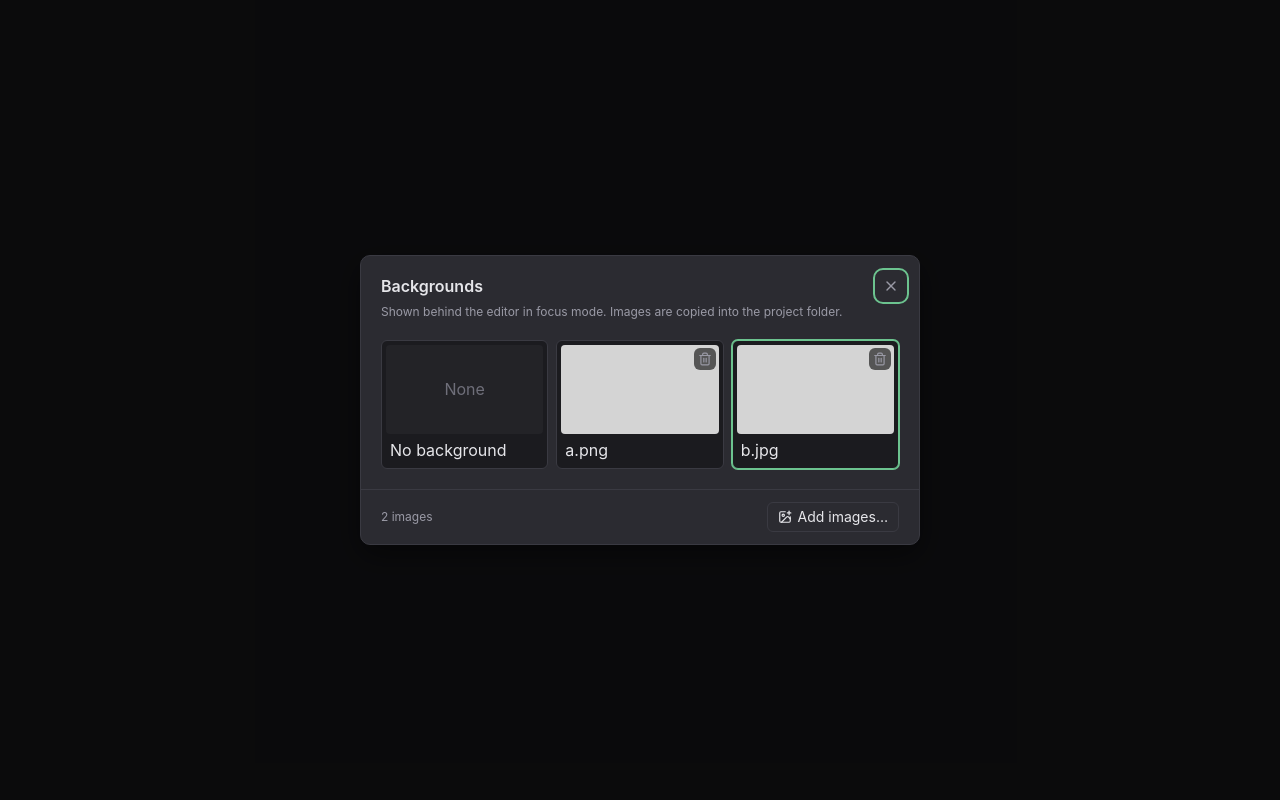
Test: BackgroundManager (F-6.2) › adds the images the dialog answered
What coordinates should you click on to do the following:
click the button "Add images…"
I would click on:
 (833, 517)
Its box is x1=766 y1=502 x2=899 y2=532.
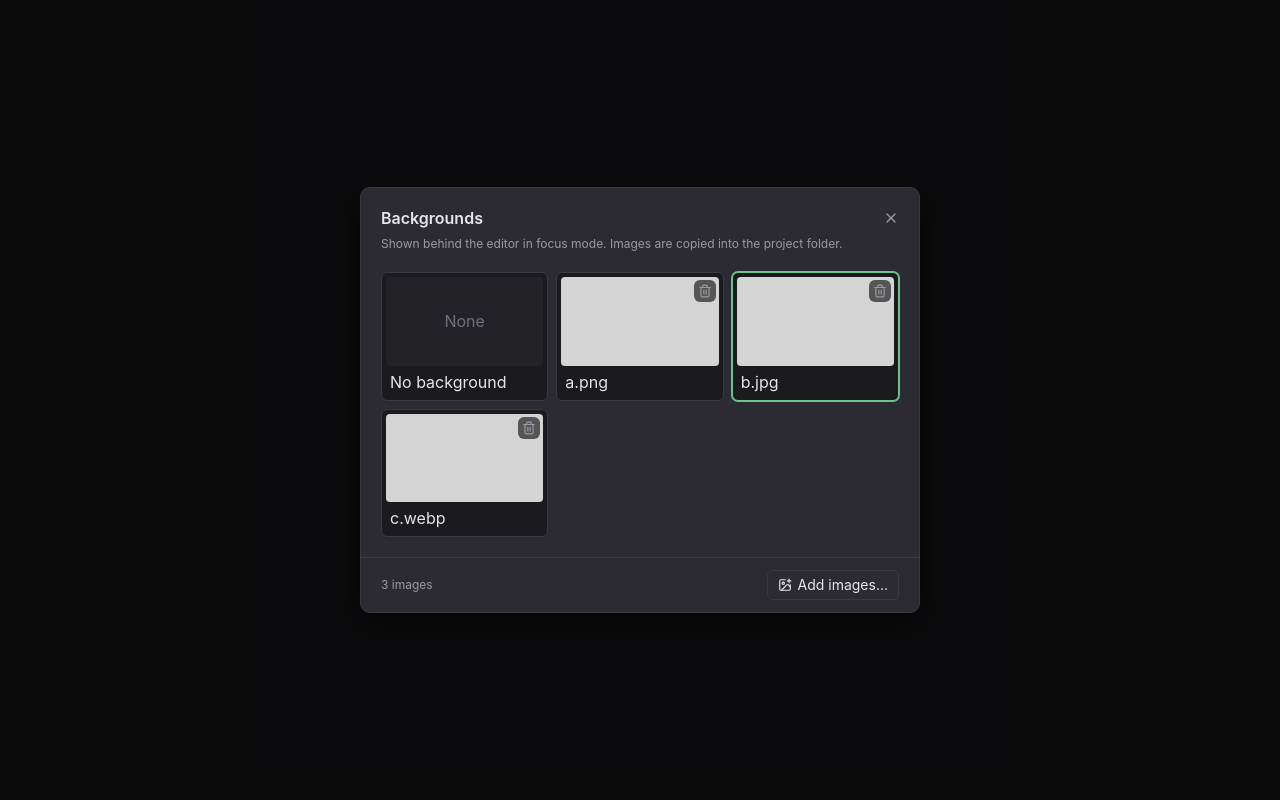
Now the text "3 images" is shown, box x1=381 y1=577 x2=433 y2=593
